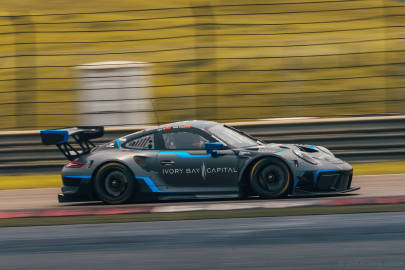other: (33, 119, 362, 199)
